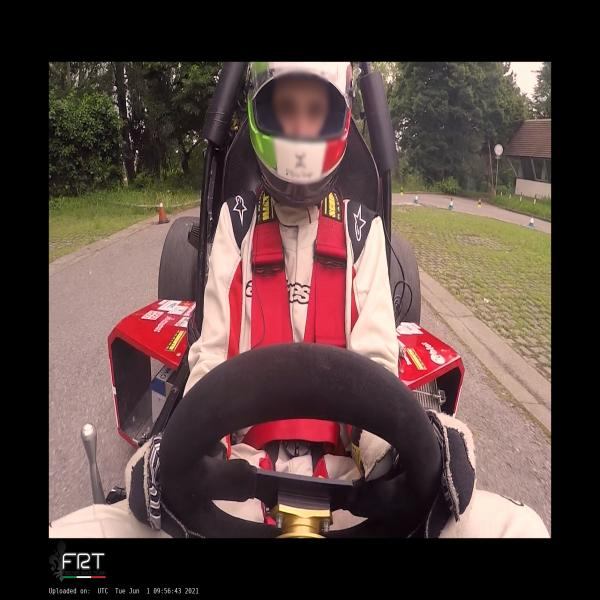blue_cone: (527, 215, 535, 228), (447, 198, 454, 210), (414, 192, 418, 203)
unknown_cone: (157, 198, 170, 225)
yellow_cone: (477, 198, 482, 208), (400, 186, 404, 196)
